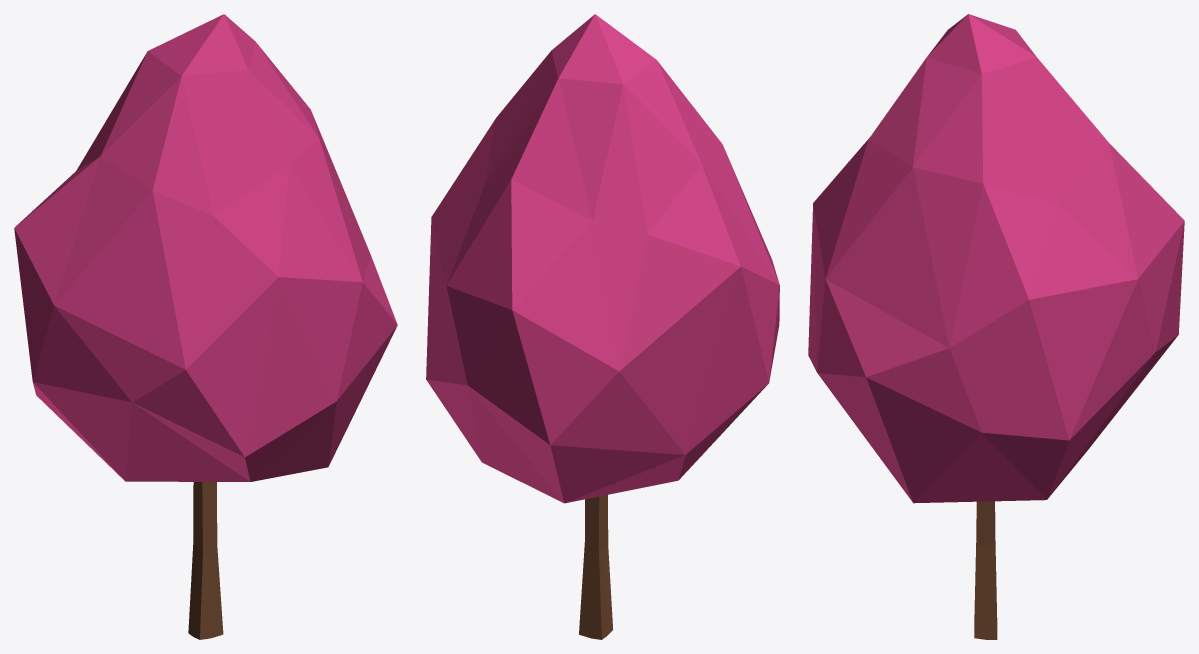
File: Tree_5_Pink.fbx
The picture shows the model from 3 angles, left to right: view 1: azimuth 30°, elevation 25°; view 2: azimuth 150°, elevation 25°; view 3: azimuth 270°, elevation 25°; orthographic projection. The views are drawn at different scales.
Visible parts, largest first — view 1: Tree_5_Pink_Part_1, Tree_5_Pink_Part_2; view 2: Tree_5_Pink_Part_1, Tree_5_Pink_Part_2; view 3: Tree_5_Pink_Part_1, Tree_5_Pink_Part_2.
Part boxes in pixels (x1,y1,x2,y2): Tree_5_Pink_Part_1: (14, 14, 397, 481); Tree_5_Pink_Part_2: (188, 482, 223, 639); Tree_5_Pink_Part_1: (426, 14, 779, 503); Tree_5_Pink_Part_2: (579, 495, 613, 639); Tree_5_Pink_Part_1: (808, 14, 1184, 503); Tree_5_Pink_Part_2: (974, 501, 997, 639).
Size of the model in its own units: 437 by 795 by 434.
